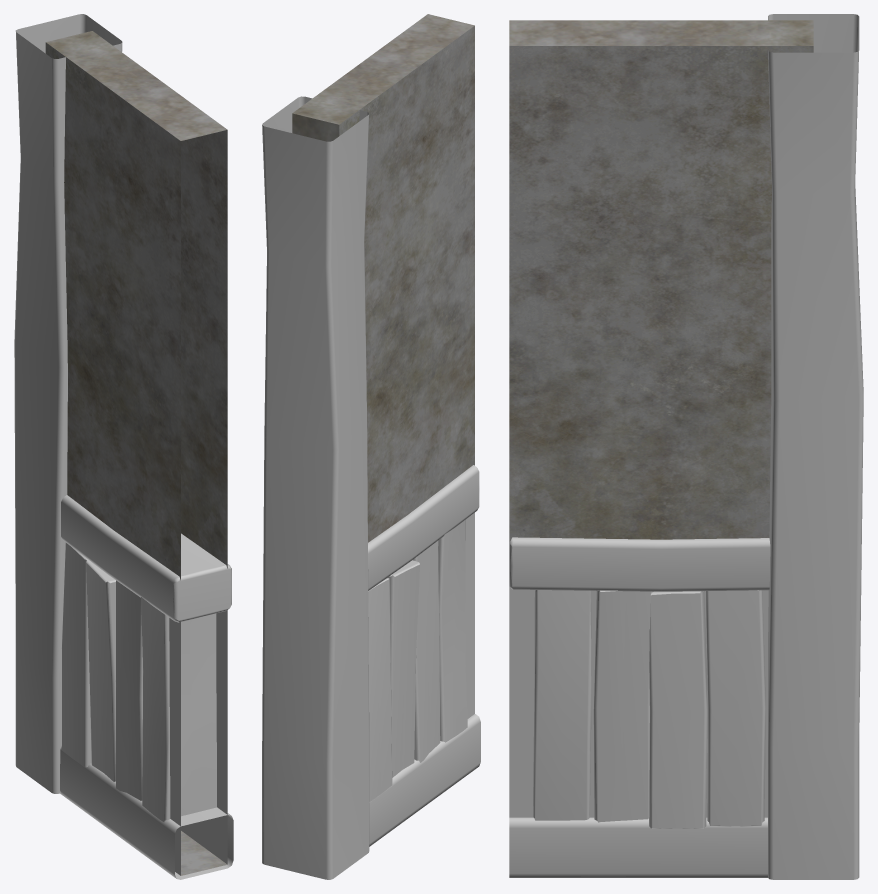
File: SM_WallSmall02.fbx
The picture shows the model from 3 angles, left to right: view 1: azimuth 30°, elevation 25°; view 2: azimuth 150°, elevation 25°; view 3: azimuth 270°, elevation 25°; orthographic projection. The views are drawn at different scales.
Parts seen in each view (by area): view 1: SM_WallSmall02_LOD0; view 2: SM_WallSmall02_LOD0; view 3: SM_WallSmall02_LOD0.
Part boxes in pixels (box(x1,y1,x2,y2)): SM_WallSmall02_LOD0: box(14, 14, 233, 879); SM_WallSmall02_LOD0: box(262, 14, 480, 879); SM_WallSmall02_LOD0: box(509, 14, 863, 879).
Size of the model in its own units: 33.03 by 117 by 302.
